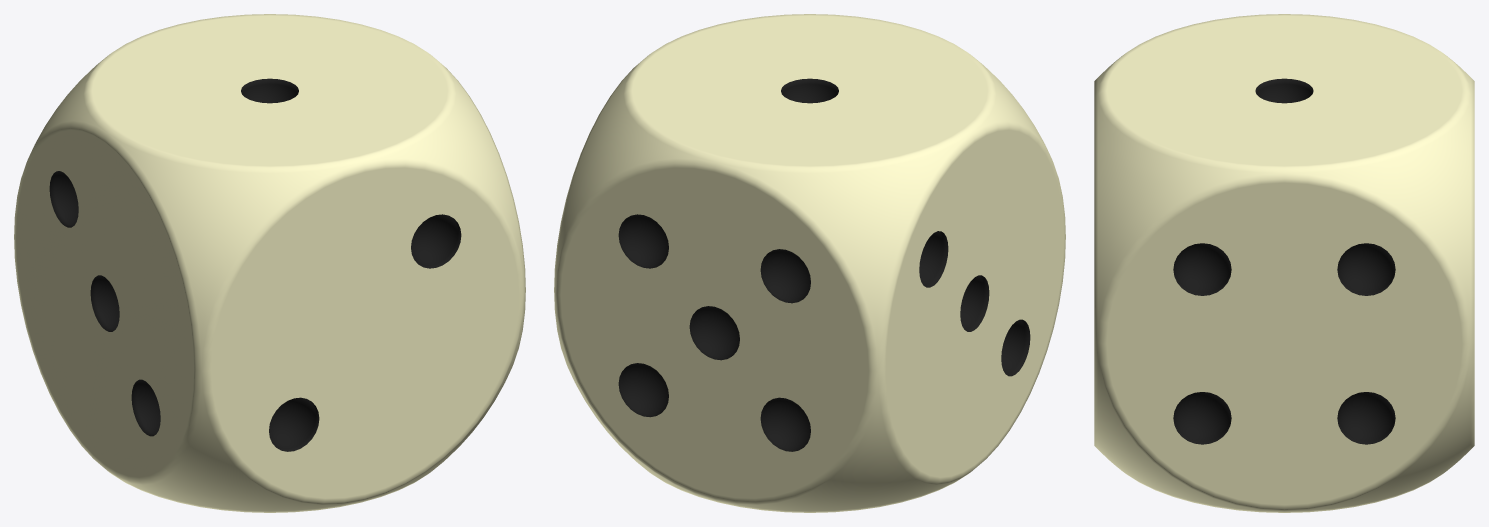
The model's file is dice-blendswap-transformed.glb.
3 views of the same model, side by side, from view 1: azimuth 30°, elevation 25°; view 2: azimuth 150°, elevation 25°; view 3: azimuth 270°, elevation 25° (orthographic).
Parts seen in each view (by area): view 1: dice; view 2: dice; view 3: dice.
Boxes of the visible parts, x1,y1,x2,y2 form: dice: (14, 14, 525, 512); dice: (554, 14, 1065, 512); dice: (1094, 14, 1474, 512).
Bounding box in the file's own units: 2.04 × 2.04 × 2.04.
